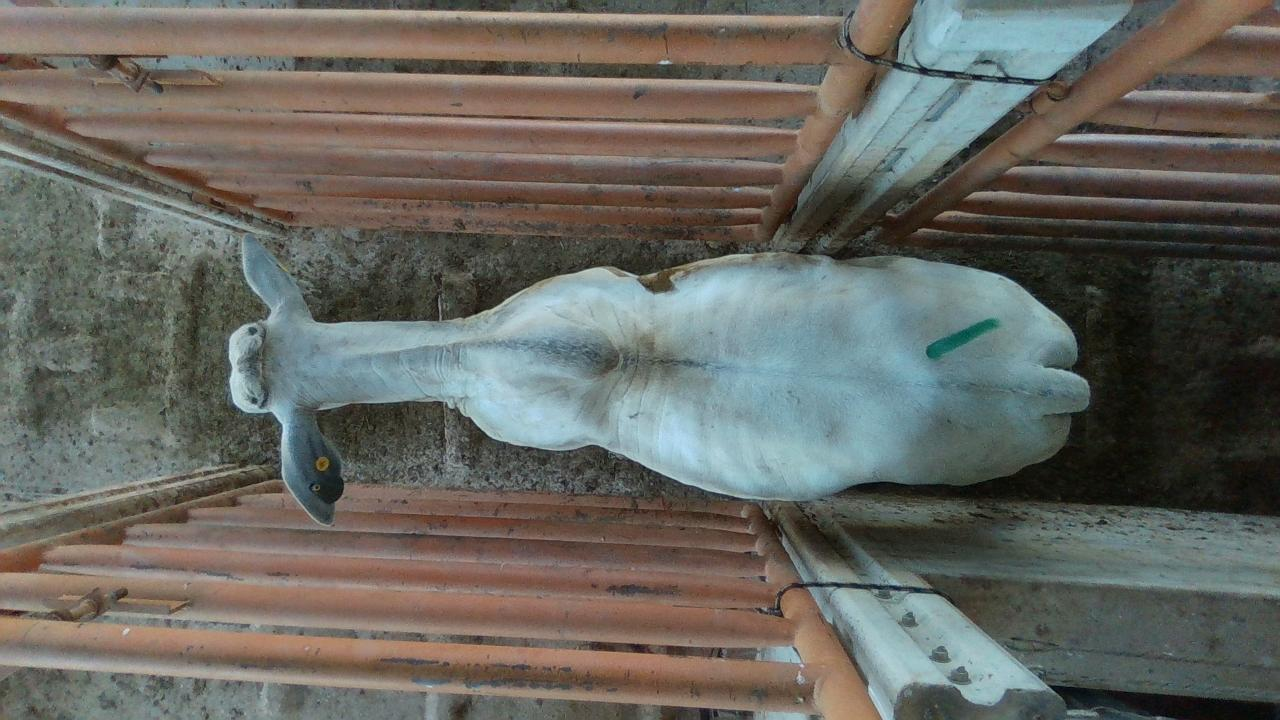cattle: (226, 233, 1091, 526)
